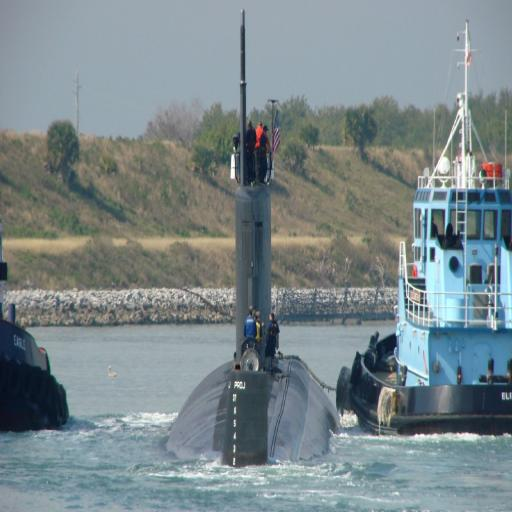submarine: (161, 12, 346, 470)
